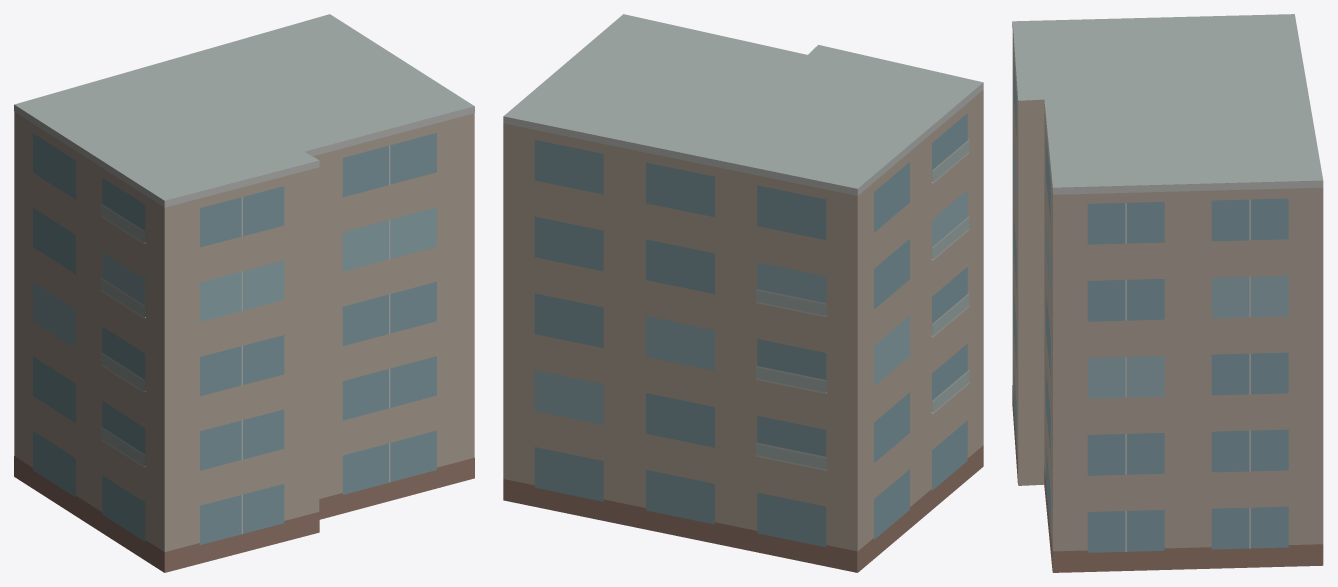
File: survey-upis-33044640.glb
3 views of the same model, side by side, from view 1: azimuth 30°, elevation 25°; view 2: azimuth 150°, elevation 25°; view 3: azimuth 270°, elevation 25° (orthographic). The views are drawn at different scales.
Visible parts, largest first — view 1: survey-upis-33044640.tmp; view 2: survey-upis-33044640.tmp; view 3: survey-upis-33044640.tmp.
Boxes of the visible parts, x1=… form: survey-upis-33044640.tmp: x1=14, y1=14, x2=474, y2=572; survey-upis-33044640.tmp: x1=503, y1=14, x2=983, y2=572; survey-upis-33044640.tmp: x1=1012, y1=14, x2=1323, y2=572.
Size of the model in its own units: 12.77 by 13.2 by 9.66.
